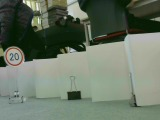speed_20: (2, 45, 25, 67)
